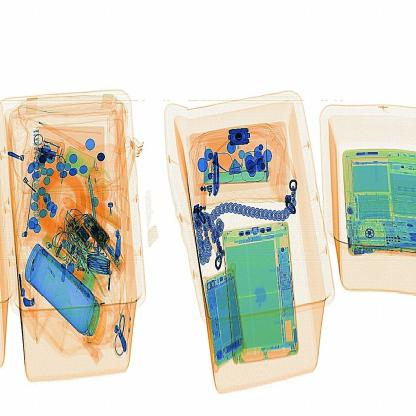knife: (207, 150, 230, 206)
